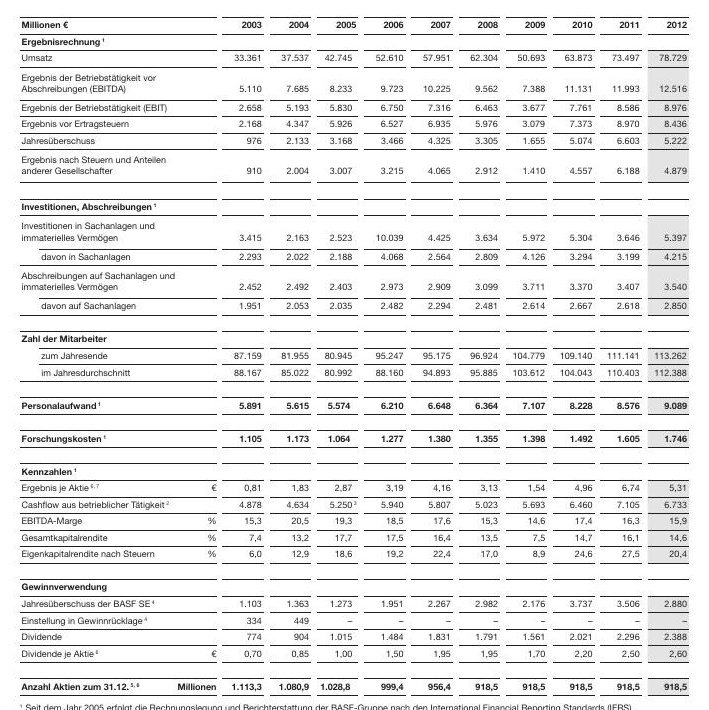table: (0, 0, 709, 710)
